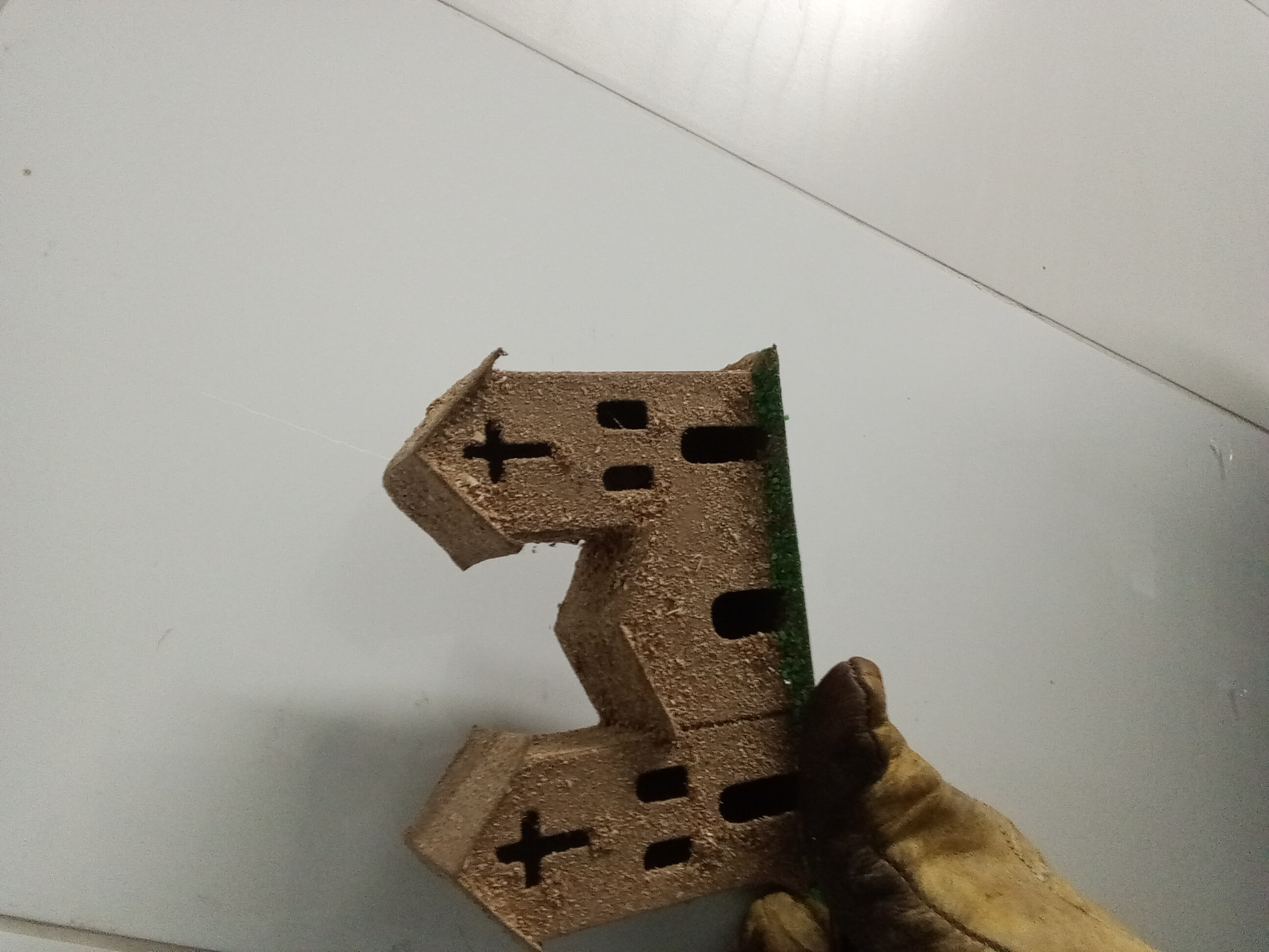Ordinario: (384, 343, 810, 952)
